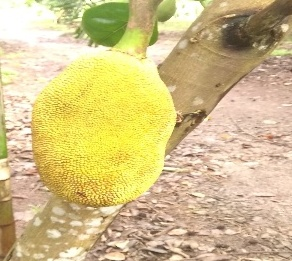Mit: (32, 52, 173, 208)
